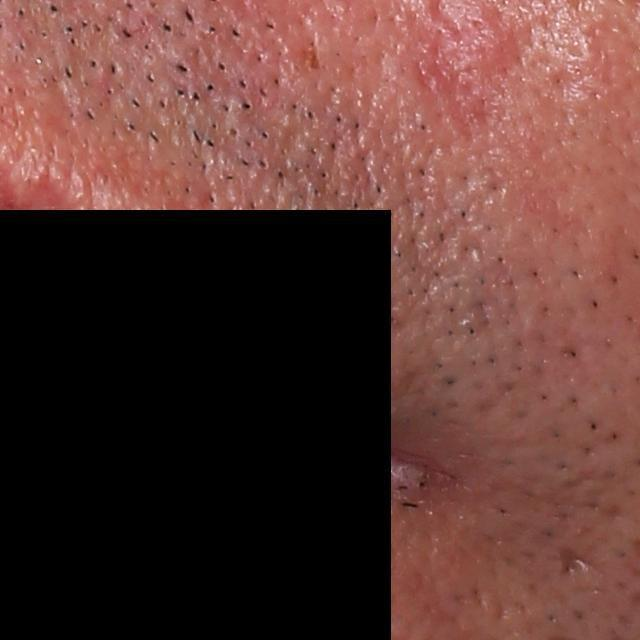atrophic_scar: (557, 543, 602, 581)
papule: (464, 23, 524, 76)
